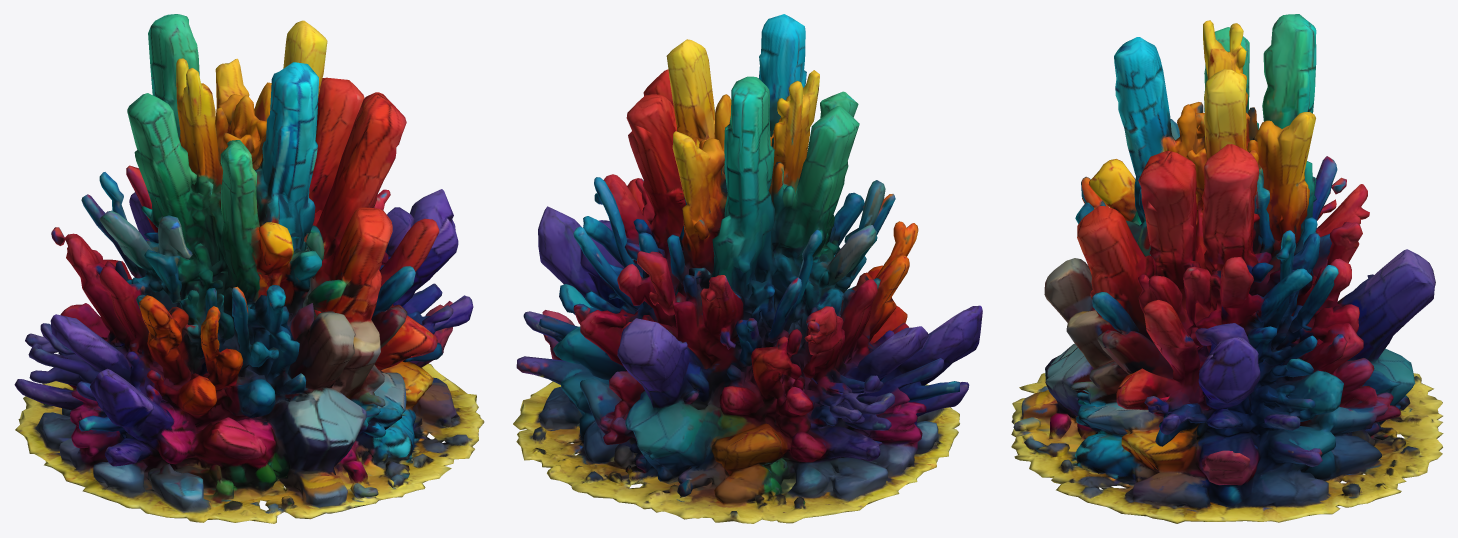
The model's file is GemColorful.fbx.
The picture shows the model from 3 angles, left to right: view 1: azimuth 30°, elevation 25°; view 2: azimuth 150°, elevation 25°; view 3: azimuth 270°, elevation 25°; orthographic projection. The views are drawn at different scales.
Parts seen in each view (by area): view 1: texture_v100; view 2: texture_v100; view 3: texture_v100.
Part boxes in pixels (x1,y1,x2,y2): texture_v100: (14,14,484,523); texture_v100: (513,14,982,523); texture_v100: (1011,14,1443,523).
Size of the model in its own units: 86.25 by 81.98 by 81.99.
Materials: 1 (1 with a texture image).
